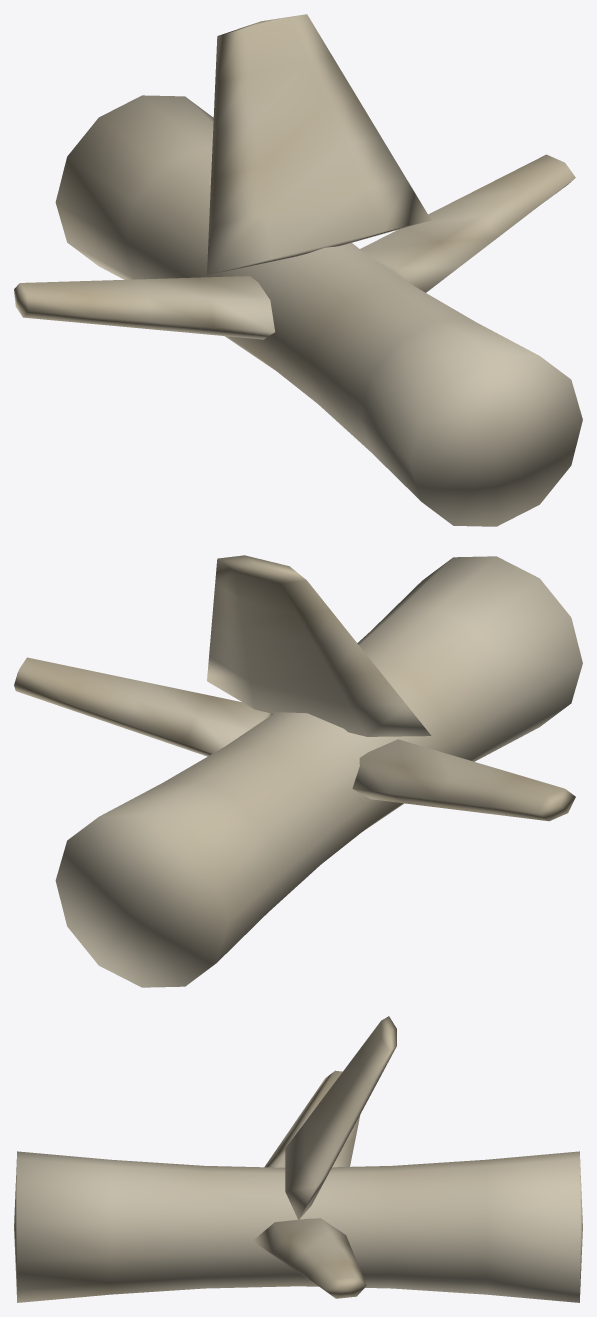
The model's file is bone-vertebra-a.glb.
3 views of the same model, one above another, from view 1: azimuth 30°, elevation 25°; view 2: azimuth 150°, elevation 25°; view 3: azimuth 270°, elevation 25° (orthographic). The views are drawn at different scales.
Parts seen in each view (by area): view 1: bone-vertebra-a; view 2: bone-vertebra-a; view 3: bone-vertebra-a.
Boxes of the visible parts, <box> form: bone-vertebra-a: <box>14,14,582,526</box>; bone-vertebra-a: <box>14,555,582,987</box>; bone-vertebra-a: <box>14,1016,582,1302</box>.
Bounding box in the file's own units: 0.6331 × 0.3707 × 0.7185.
